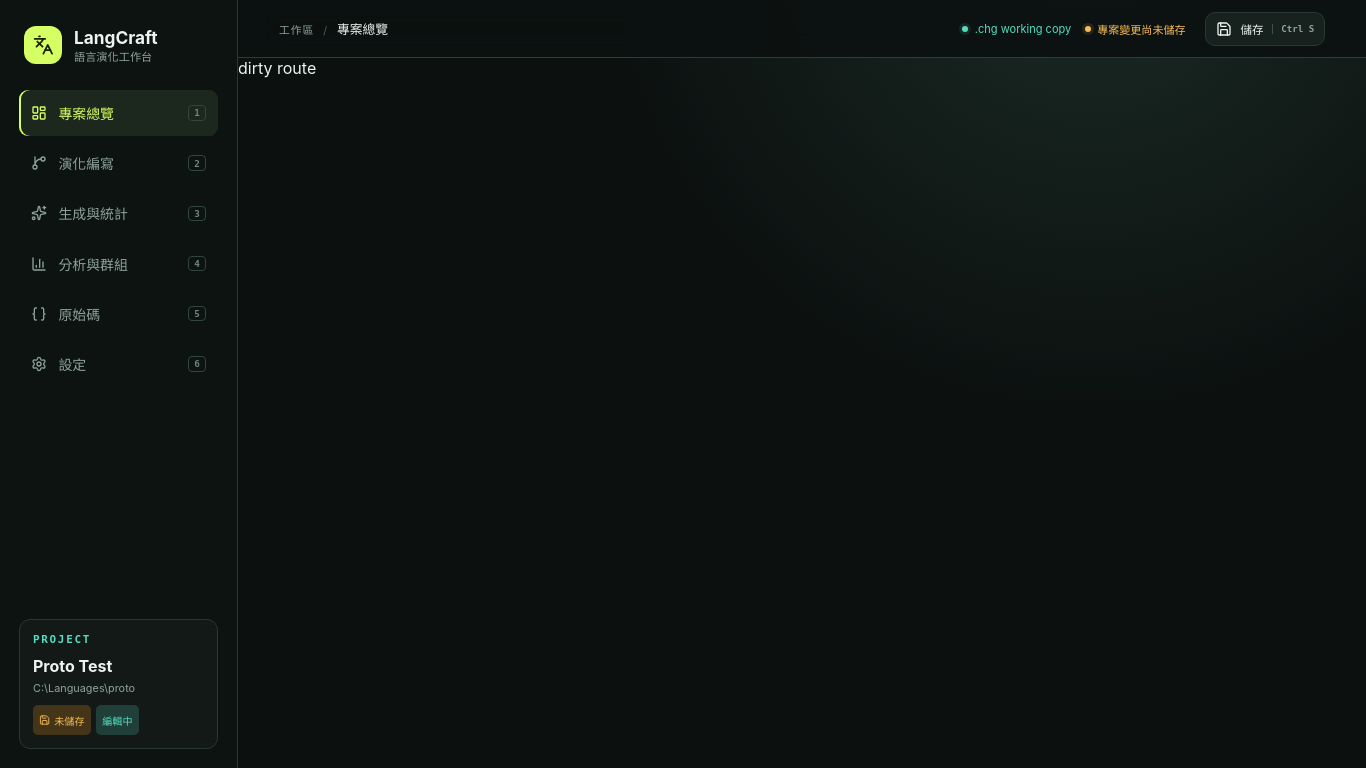
Test: Shell desktop commands › blocks route changes until a local draft is saved, discarded, or cancelled
Press 4
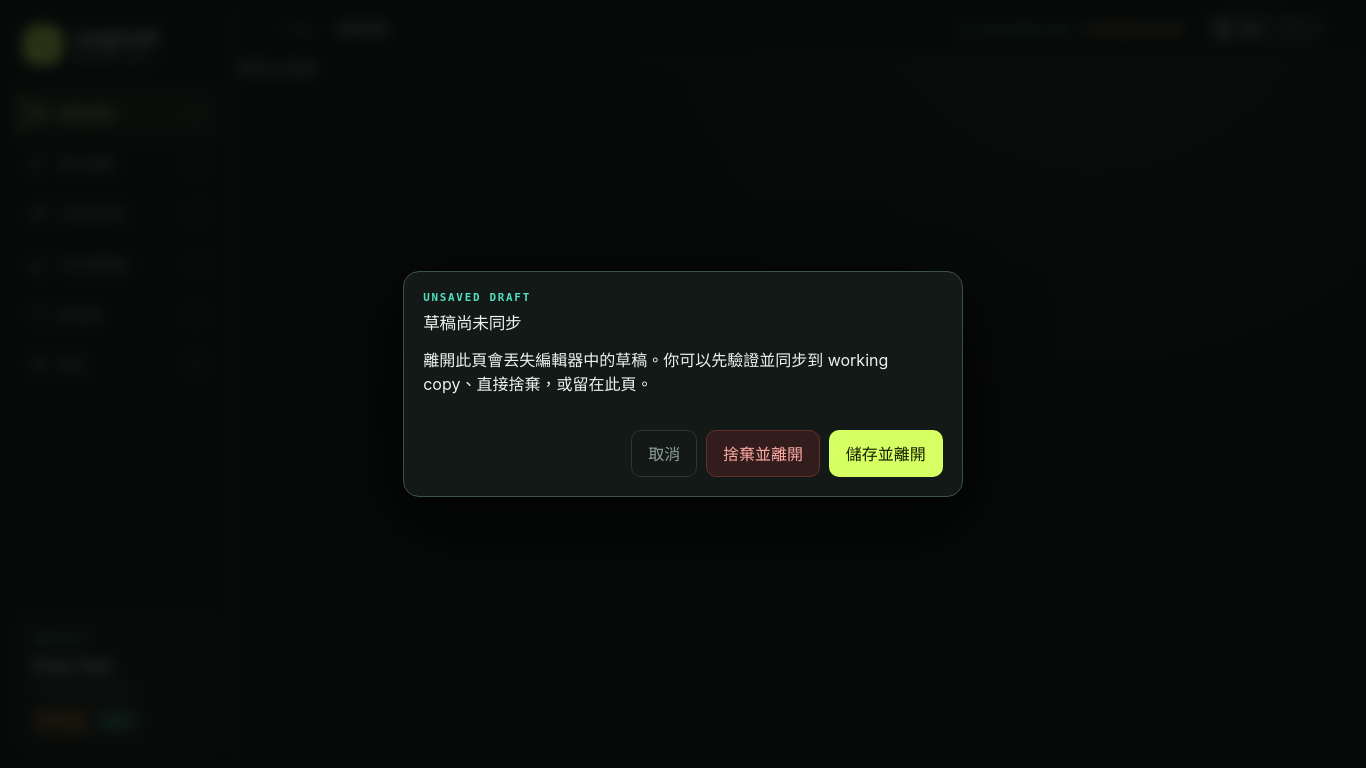
Expected: the heading "草稿尚未同步" is shown, 423,313 -> 522,333
Click the button "取消".
click(664, 453)  # box 631,430 -> 697,477
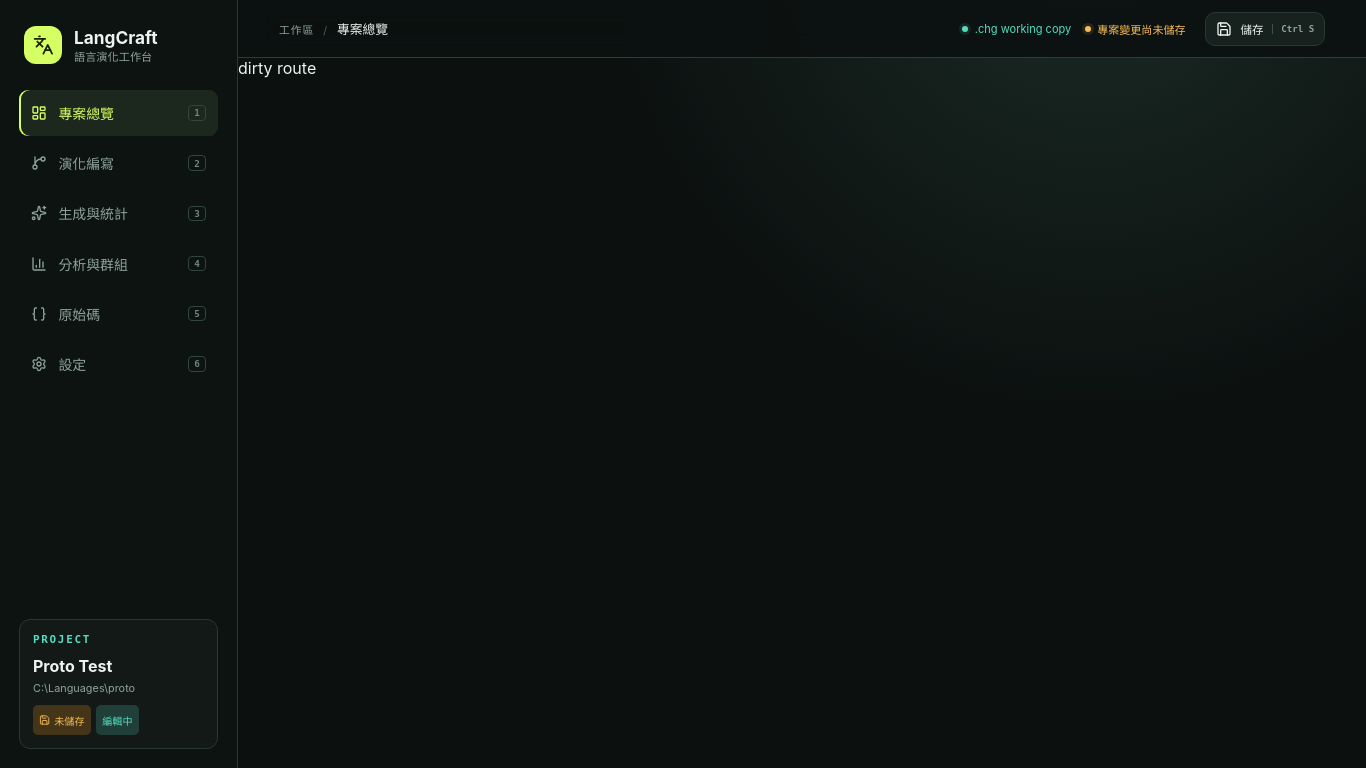
Expected: the text "dirty route" is shown, 238,58 -> 316,78
Press 4
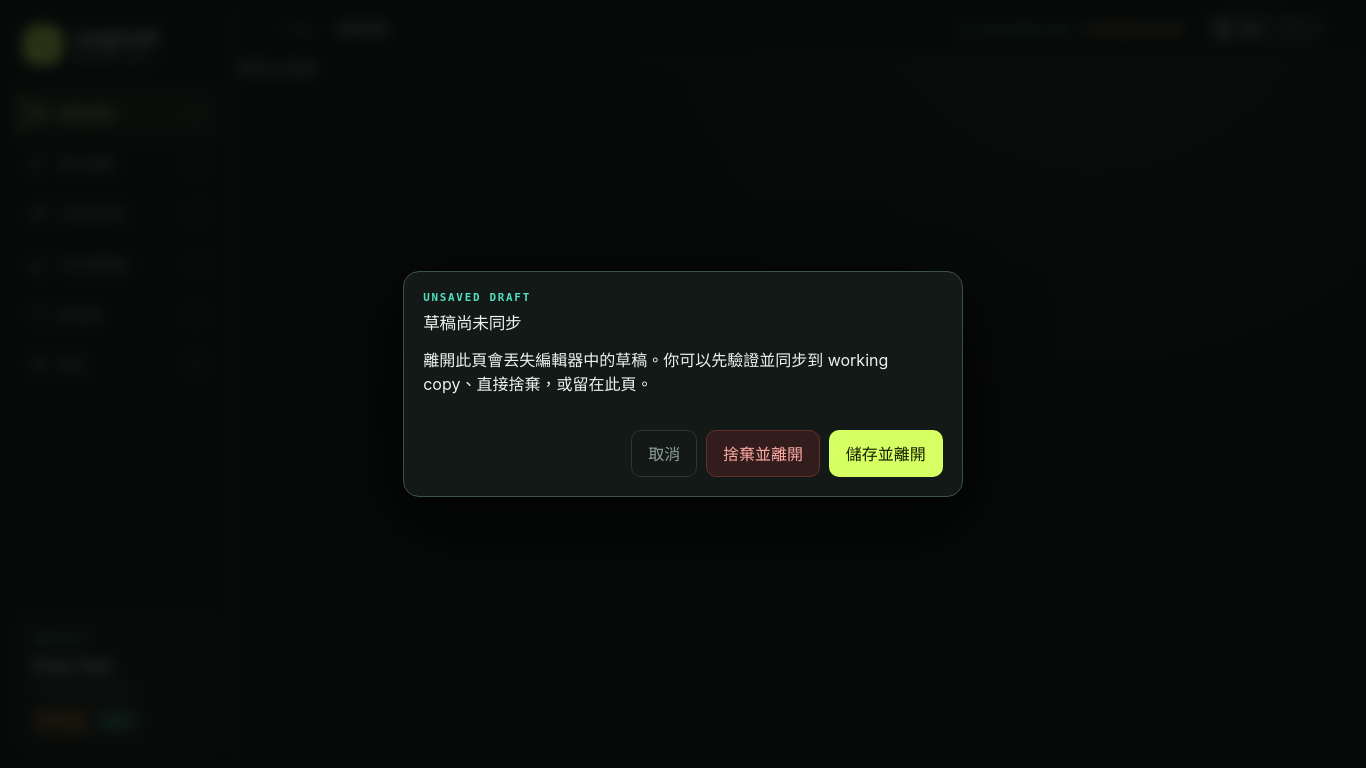
Click the button "儲存並離開".
click(886, 453)  # box 829,430 -> 943,477
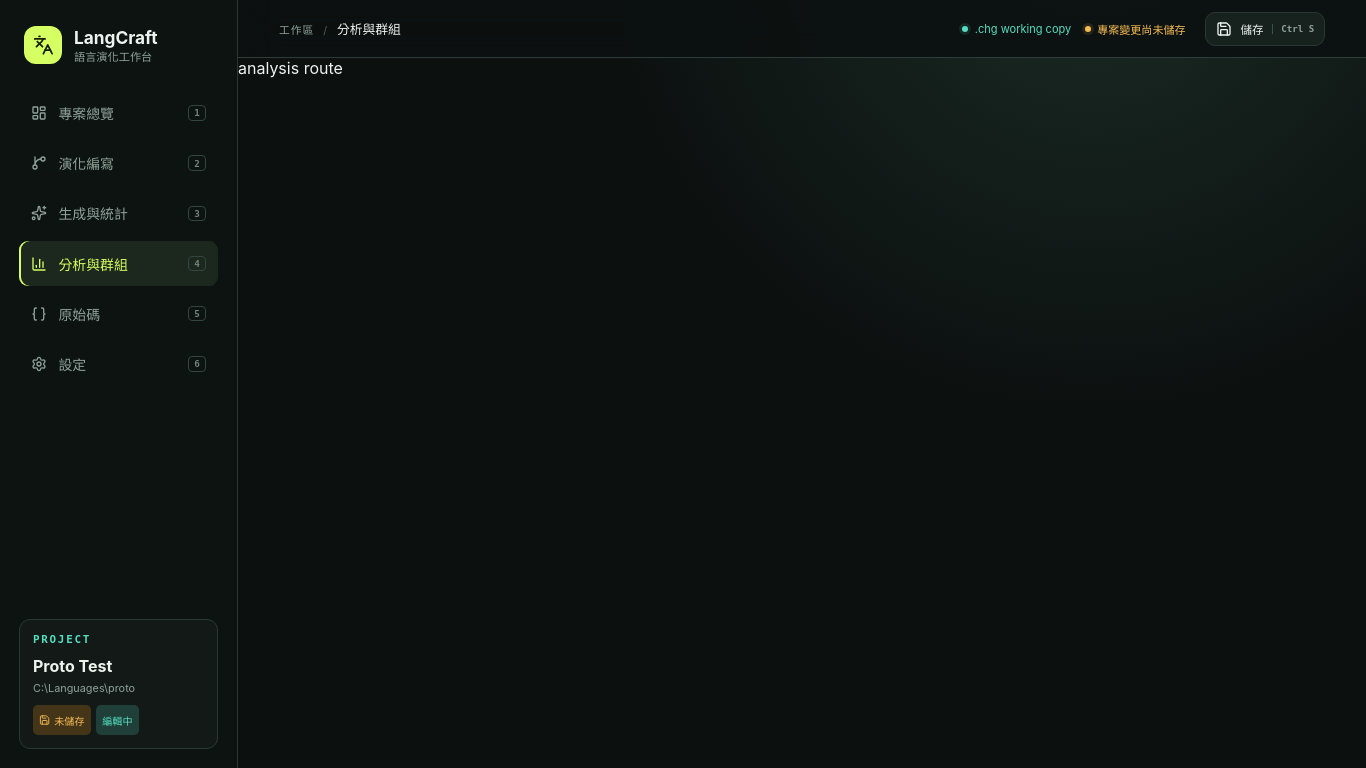
Expected: the text "analysis route" is shown, 238,58 -> 343,78
